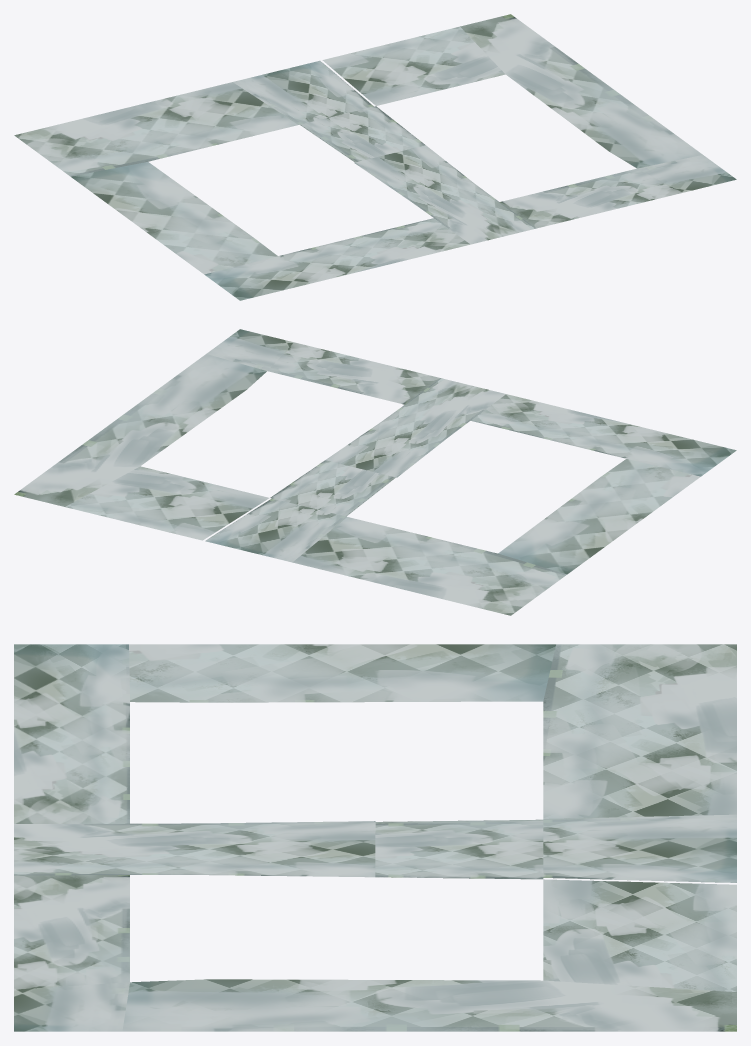
Rendered from Piso.fbx.
3 views of the same model, one above another, from view 1: azimuth 30°, elevation 25°; view 2: azimuth 150°, elevation 25°; view 3: azimuth 270°, elevation 25° (orthographic). The views are drawn at different scales.
Parts seen in each view (by area): view 1: Piso; view 2: Piso; view 3: Piso.
Part boxes in pixels (x1,y1,x2,y2): Piso: [14, 14, 736, 300]; Piso: [14, 329, 736, 615]; Piso: [14, 644, 736, 1031].
Size of the model in its own units: 4466 by 3521 by 0.
